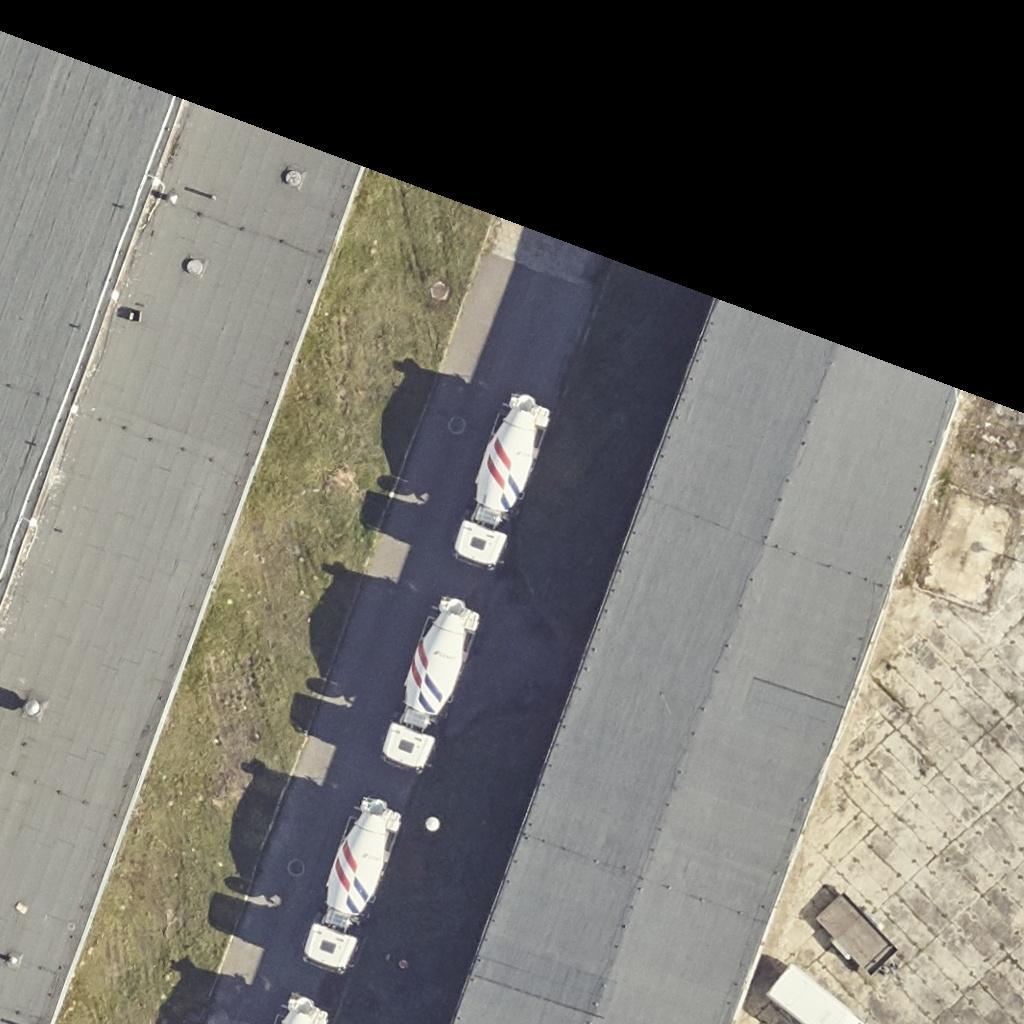betoniarka: (382, 597, 478, 772), (304, 798, 400, 973), (455, 395, 549, 568), (275, 993, 327, 1023)
